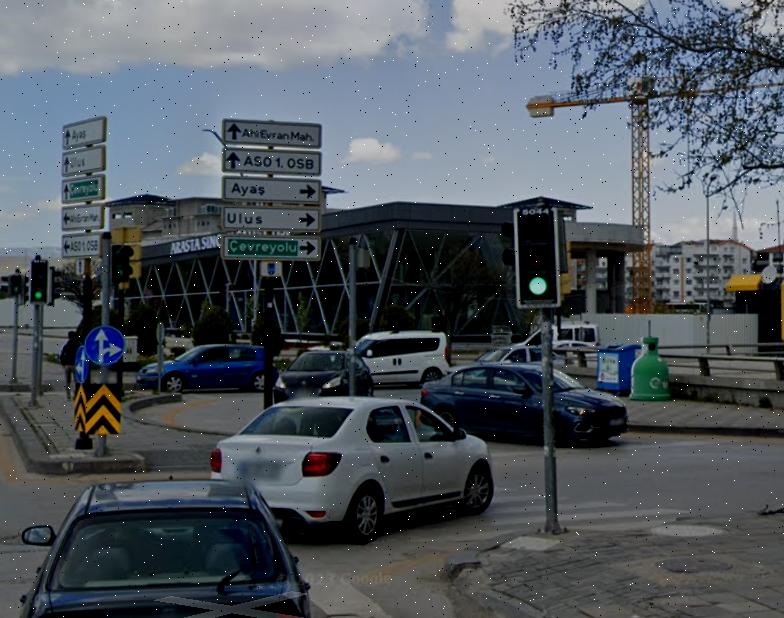greenlight: (517, 208, 558, 305), (29, 261, 49, 302)
